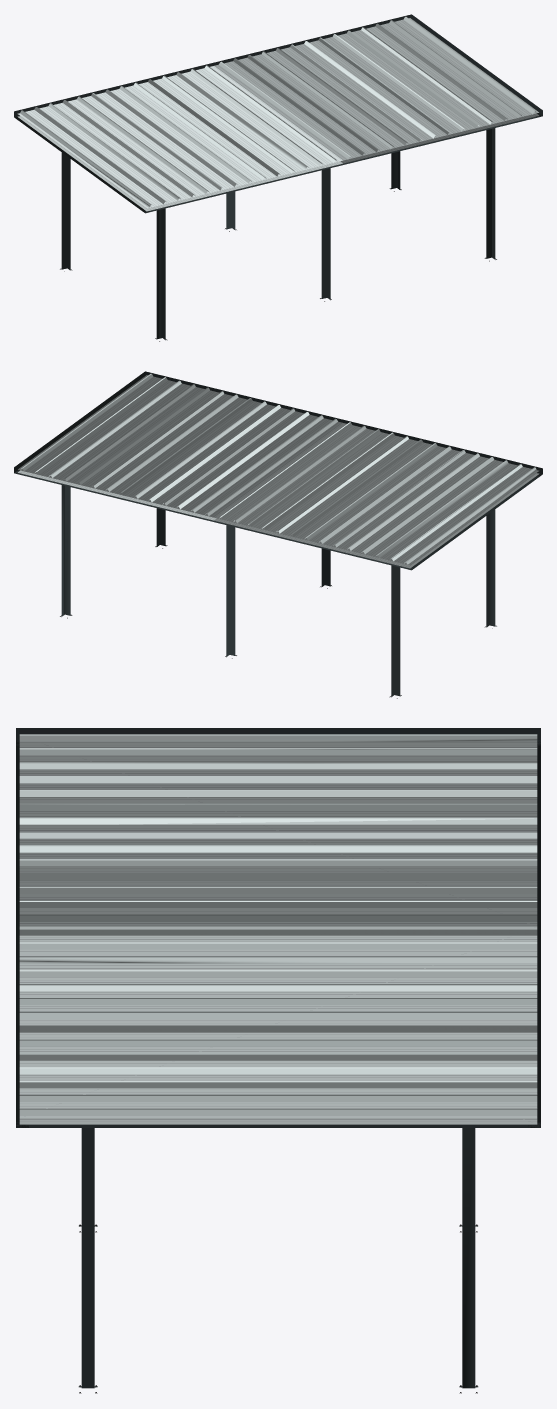
The picture shows the model from 3 angles, top to bottom: view 1: azimuth 30°, elevation 25°; view 2: azimuth 150°, elevation 25°; view 3: azimuth 270°, elevation 25°; orthographic projection. The views are drawn at different scales.
Parts seen in each view (by area): view 1: priximbattable_net_pergola_aluminium_29276_carport_aluminium; view 2: priximbattable_net_pergola_aluminium_29276_carport_aluminium; view 3: priximbattable_net_pergola_aluminium_29276_carport_aluminium.
Boxes of the visible parts, box(x1,y1,x2,y2) form: priximbattable_net_pergola_aluminium_29276_carport_aluminium: box(14, 14, 542, 341); priximbattable_net_pergola_aluminium_29276_carport_aluminium: box(14, 371, 542, 698); priximbattable_net_pergola_aluminium_29276_carport_aluminium: box(16, 728, 540, 1393).
Size of the model in its own units: 700 by 259 by 400.
1 material, 1 textured.
